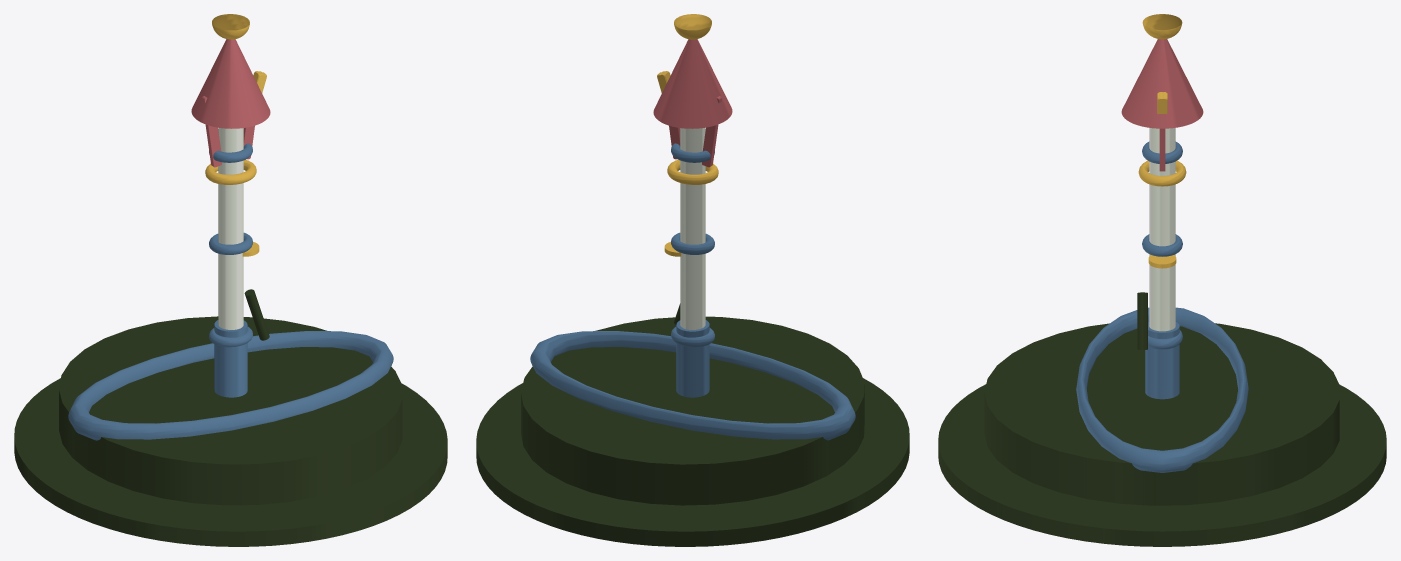
Rendered from 0215_生活中的物理图鉴_哈哈镜.glb.
3 views of the same model, side by side, from view 1: azimuth 30°, elevation 25°; view 2: azimuth 150°, elevation 25°; view 3: azimuth 270°, elevation 25° (orthographic).
Parts seen in each view (by area): view 1: card_0215; view 2: card_0215; view 3: card_0215.
Part boxes in pixels (x1,y1,x2,y2): card_0215: (14,14,447,546); card_0215: (476,14,909,546); card_0215: (938,14,1386,546).
Bounding box in the file's own units: 0.9018 × 1 × 0.9373.
